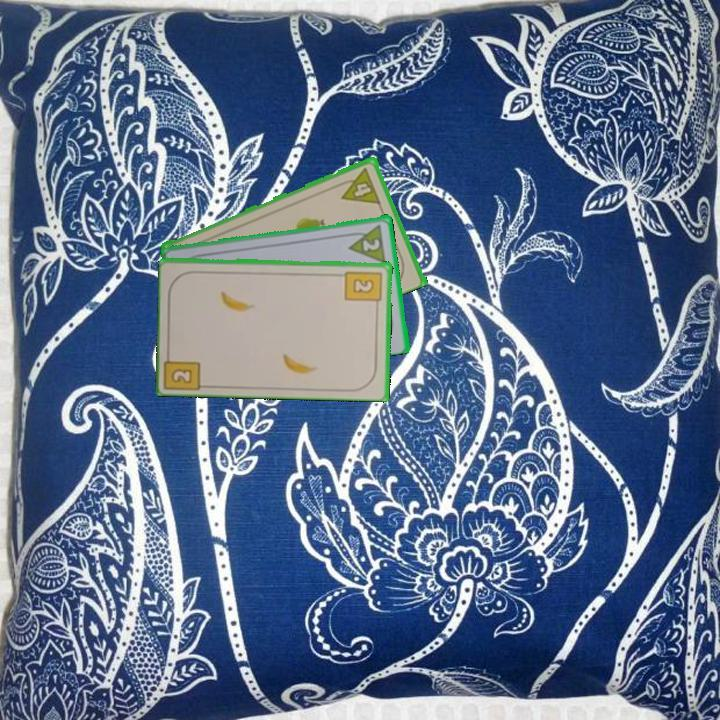2b: (163, 346, 205, 391), (342, 267, 385, 310)
2p: (359, 235, 383, 254)
4p: (334, 164, 383, 207)
